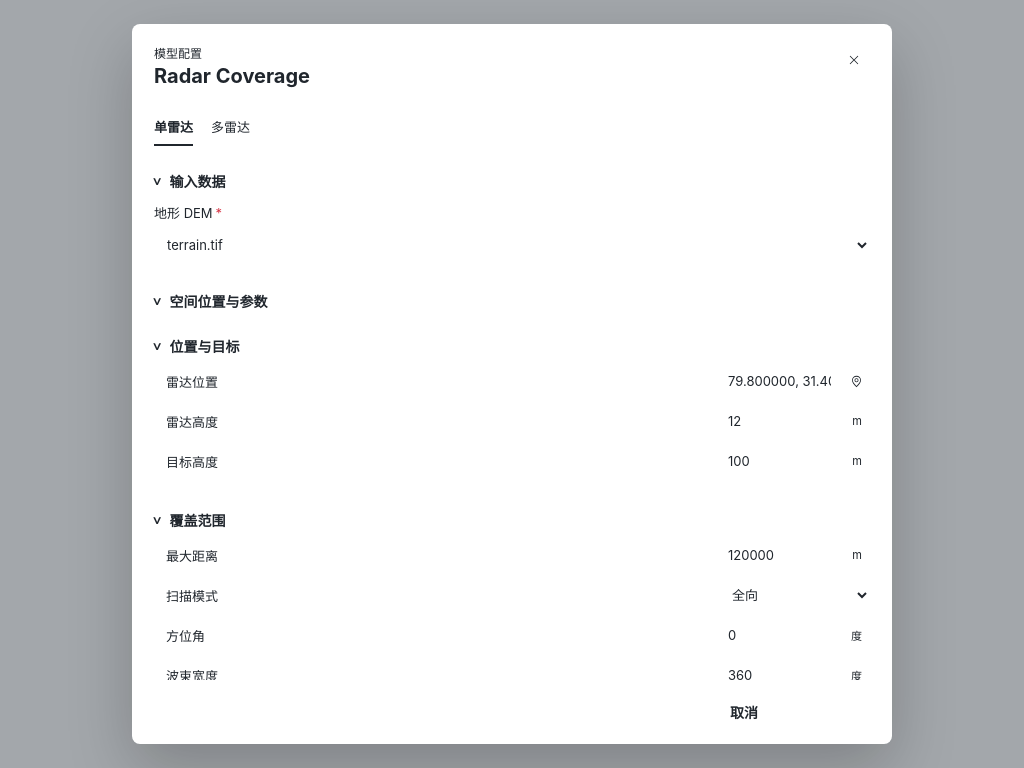
ModelRunDialog › switches a radar dialog to the multi-radar station editor
Click the tab "多雷达".
click(230, 127)  # box [211, 108, 250, 146]
(page scrolled)
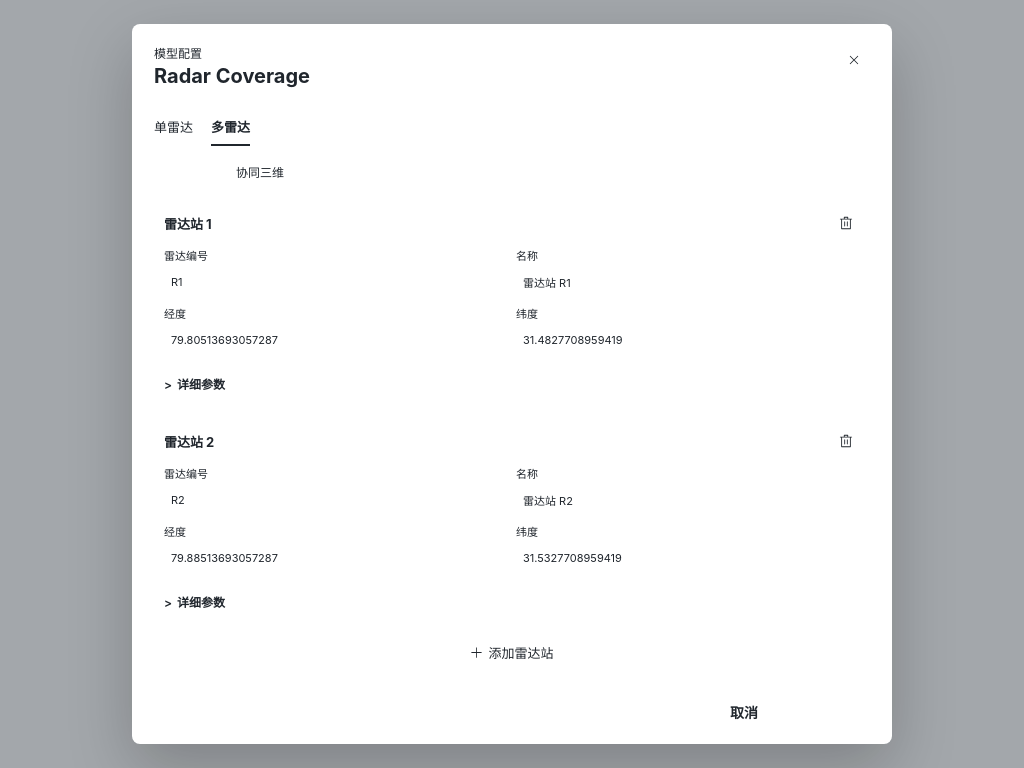
Result: the element that starts with "融合覆盖" is shown at [154, 152, 870, 673]
